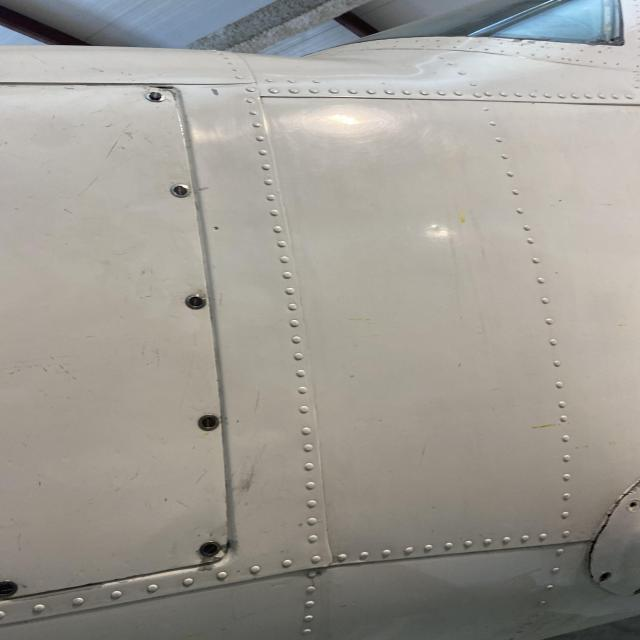Crack: (586, 484, 619, 570)
Missing_Fastener: (598, 570, 614, 582), (627, 500, 639, 510)
